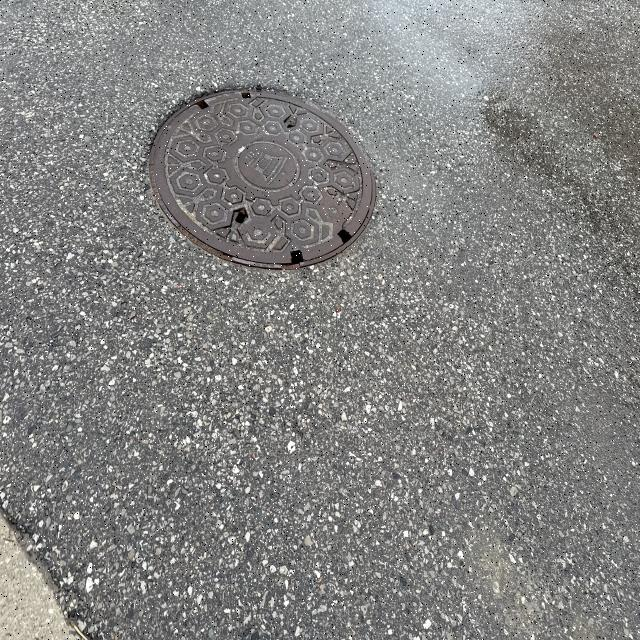Manhole: (148, 83, 380, 266)
